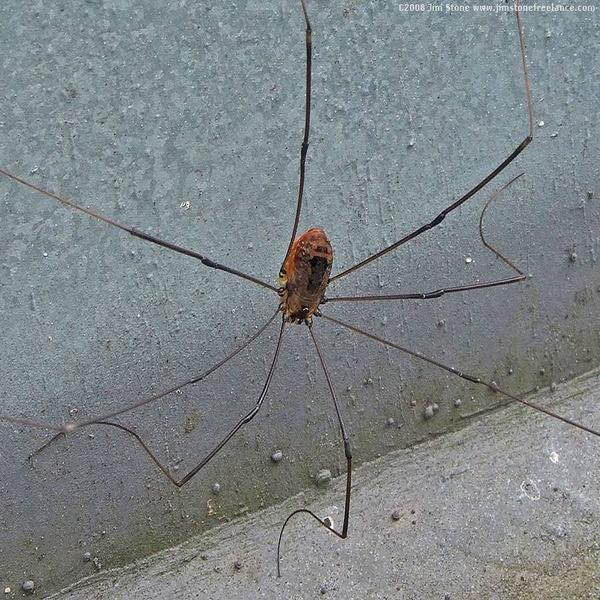Daddy Long Legs Spider: (69, 46, 529, 509)
